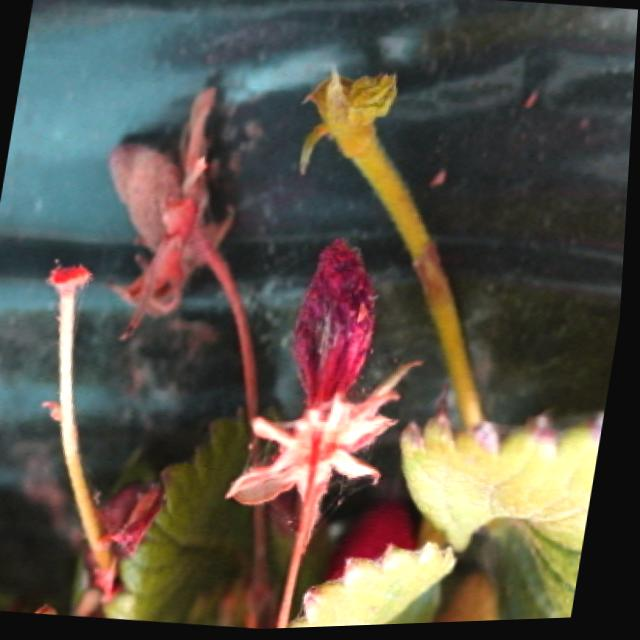Gray Mold: (231, 238, 426, 523), (109, 85, 238, 341)
